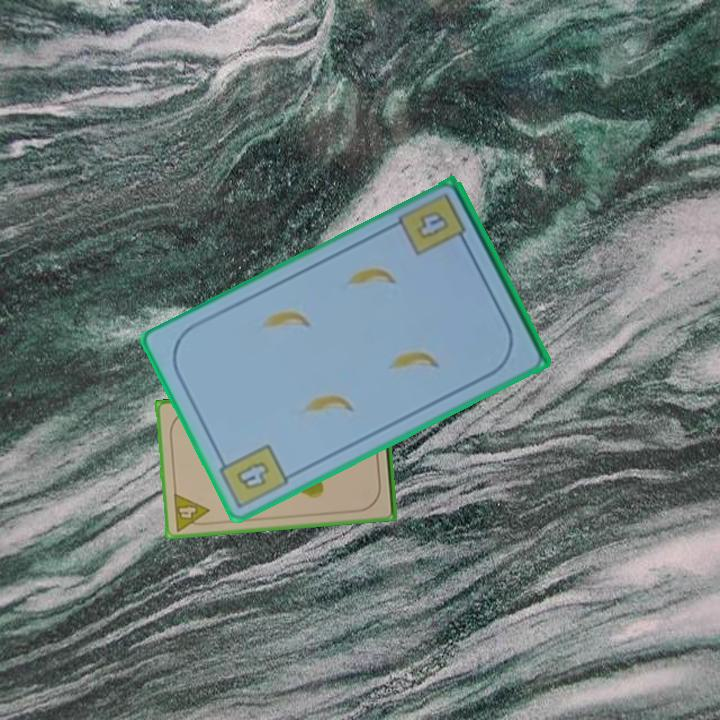4b: (214, 440, 292, 508), (412, 208, 452, 243)
4p: (170, 490, 213, 534)
